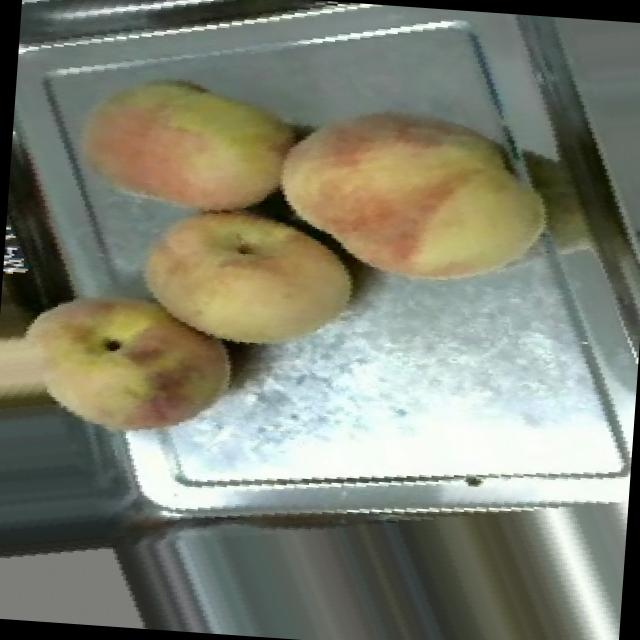Fruit: (252, 64, 580, 319), (108, 174, 378, 384), (48, 41, 323, 247), (0, 248, 259, 465)
